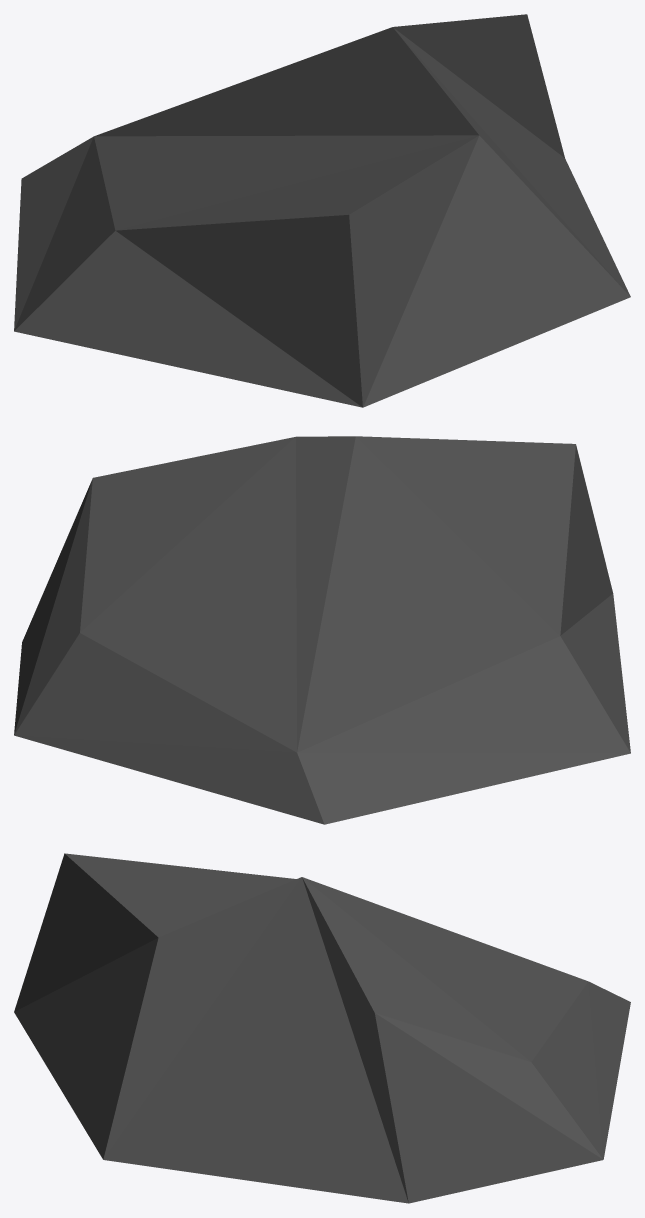
The model's file is Brick_A_02.FBX.
3 renders of one model, top to bottom at view 1: azimuth 30°, elevation 25°; view 2: azimuth 150°, elevation 25°; view 3: azimuth 270°, elevation 25°, orthographic. The views are drawn at different scales.
Visible parts, largest first — view 1: Brick_A_02; view 2: Brick_A_02; view 3: Brick_A_02.
Boxes of the visible parts, x1,y1,x2,y2 form: Brick_A_02: (14,14,630,407); Brick_A_02: (14,436,630,824); Brick_A_02: (14,853,630,1203).
Size of the model in its own units: 0.8354 by 0.3077 by 0.7841.
